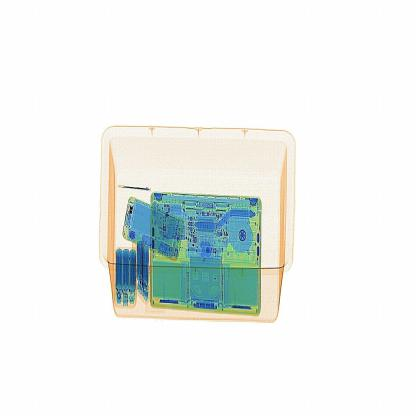wrench: (116, 182, 162, 198)
